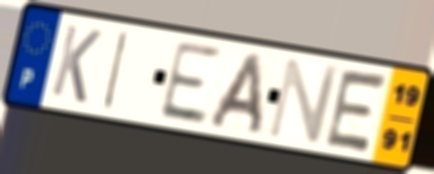A: (205, 50, 264, 138)
E: (321, 66, 392, 156), (155, 38, 223, 127)
I: (100, 27, 132, 112)
K: (48, 21, 105, 107)
N: (265, 56, 344, 145)
